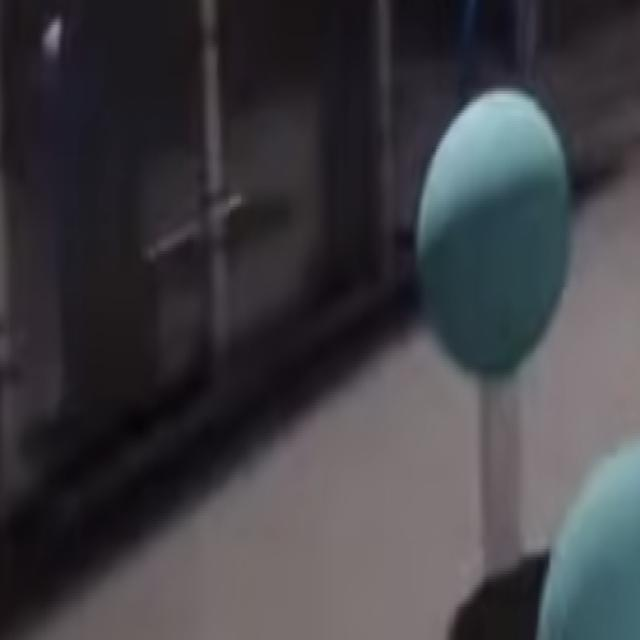Algae: (417, 90, 572, 382), (534, 430, 640, 640)
Coral: (477, 361, 522, 574)
